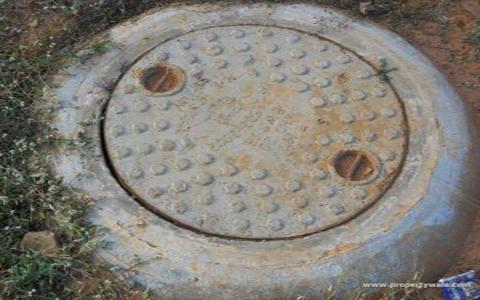proper manhole: (107, 19, 404, 244)
